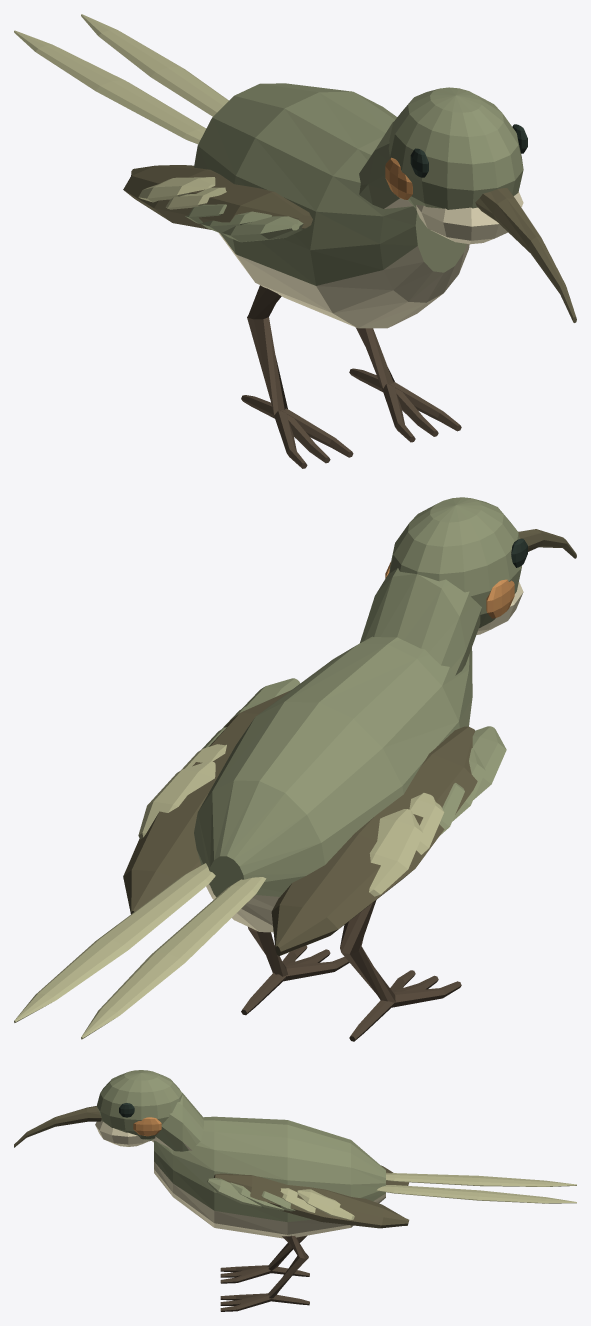
Rendered from longirostravis.glb.
3 renders of one model, top to bottom at view 1: azimuth 30°, elevation 25°; view 2: azimuth 150°, elevation 25°; view 3: azimuth 270°, elevation 25°, orthographic. The views are drawn at different scales.
Visible parts, largest first — view 1: feathered-body, head, left-folded-wing, paired-tail--1, paired-tail-1, slender-downcurved-rostrum, throat, left-leg, neck, left-wing-covert-0, left-wing-covert-4, right-leg (+9 smaller); view 2: feathered-body, left-folded-wing, head, neck, right-folded-wing, paired-tail--1, paired-tail-1, left-wing-covert-4, right-wing-covert-4, left-leg, left-wing-covert-0, left-wing-covert-3 (+5 smaller); view 3: feathered-body, head, right-folded-wing, neck, paired-tail-1, paired-tail--1, slender-downcurved-rostrum, right-wing-covert-4, throat, right-leg, right-wing-covert-0, rust-cheek-1 (+4 smaller).
Part boxes in pixels (x1,y1,x2,y2): feathered-body: [194, 83, 469, 328]; head: [388, 87, 523, 209]; left-folded-wing: [123, 165, 312, 229]; paired-tail--1: [14, 30, 206, 144]; paired-tail-1: [81, 14, 228, 116]; slender-downcurved-rostrum: [475, 188, 576, 322]; throat: [416, 191, 523, 244]; left-leg: [247, 285, 287, 414]; neck: [359, 121, 412, 208]; left-wing-covert-0: [222, 216, 303, 242]; left-wing-covert-4: [138, 177, 215, 202]; right-leg: [355, 327, 394, 388]; feathered-body: [194, 636, 472, 932]; left-folded-wing: [271, 726, 477, 956]; head: [389, 497, 521, 628]; neck: [360, 568, 481, 675]; right-folded-wing: [123, 690, 290, 914]; paired-tail--1: [81, 877, 266, 1039]; paired-tail-1: [14, 863, 215, 1022]; left-wing-covert-4: [369, 809, 423, 896]; right-wing-covert-4: [138, 761, 215, 839]; left-leg: [340, 900, 395, 1002]; left-wing-covert-0: [472, 726, 506, 799]; left-wing-covert-3: [409, 793, 444, 854]; feathered-body: [154, 1116, 385, 1238]; head: [96, 1070, 182, 1141]; right-folded-wing: [214, 1173, 409, 1228]; neck: [151, 1092, 203, 1151]; paired-tail-1: [377, 1185, 576, 1203]; paired-tail--1: [386, 1173, 576, 1186]; slender-downcurved-rostrum: [14, 1106, 101, 1147]; right-wing-covert-4: [297, 1189, 354, 1220]; throat: [95, 1120, 150, 1146]; right-leg: [268, 1235, 308, 1298]; right-wing-covert-0: [207, 1178, 263, 1207]; rust-cheek-1: [133, 1117, 161, 1136].
Size of the model in its own units: 0.0913 by 0.1365 by 0.3186.
